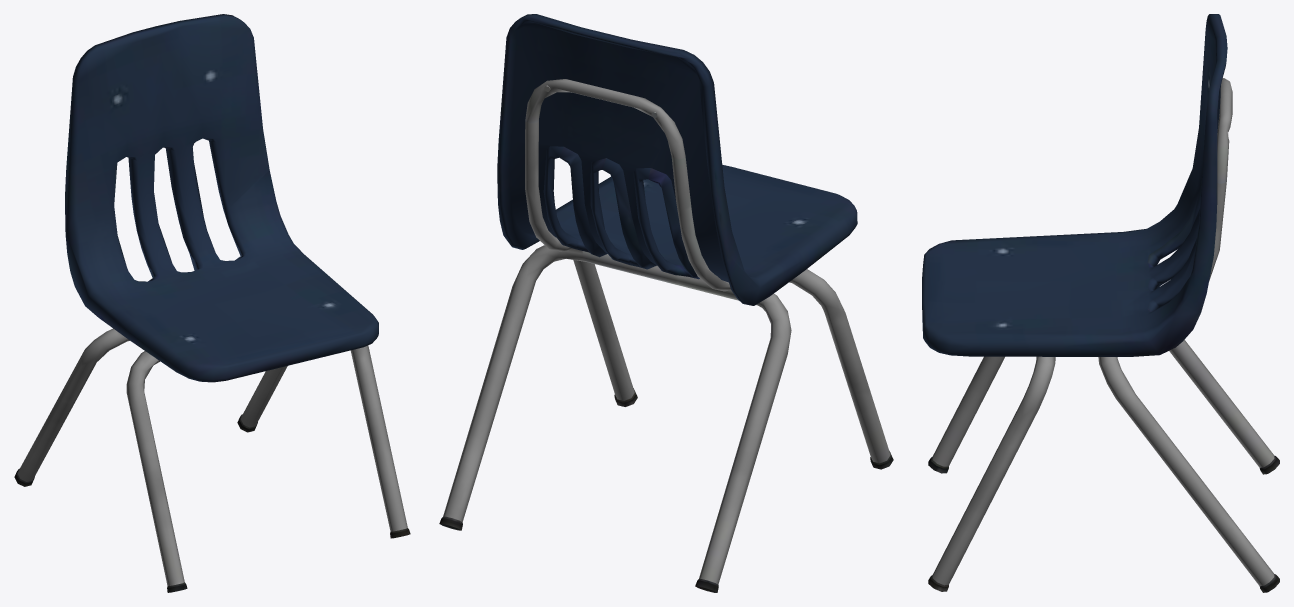
Rendered from cc0_school_chair.glb.
The picture shows the model from 3 angles, left to right: view 1: azimuth 30°, elevation 25°; view 2: azimuth 150°, elevation 25°; view 3: azimuth 270°, elevation 25°; orthographic projection. The views are drawn at different scales.
Visible parts, largest first — view 1: SchoolChair_01; view 2: SchoolChair_01; view 3: SchoolChair_01.
Boxes of the visible parts, x1,y1,x2,y2 form: SchoolChair_01: (14,14,410,592); SchoolChair_01: (439,14,893,592); SchoolChair_01: (922,14,1279,592).
Size of the model in its own units: 0.5659 by 1 by 0.6733.
1 material, 1 textured.
